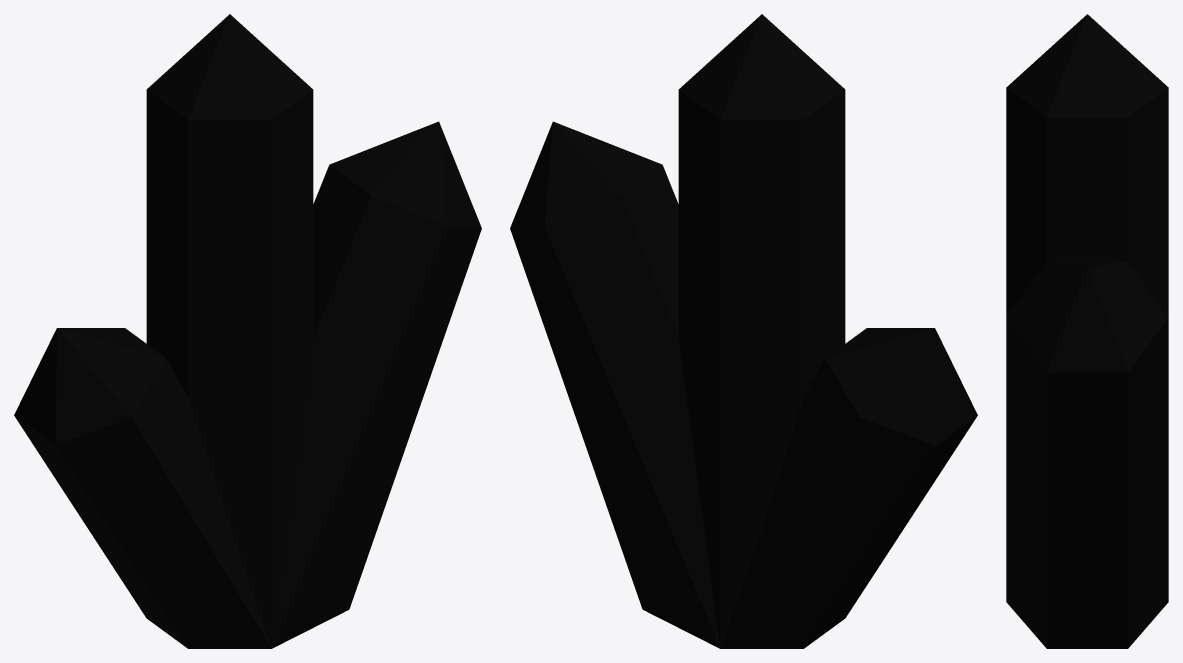
File: black_cave_crystal.obj
3 renders of one model, left to right at view 1: azimuth 30°, elevation 25°; view 2: azimuth 150°, elevation 25°; view 3: azimuth 270°, elevation 25°, orthographic. The views are drawn at different scales.
Visible parts, largest first — view 1: main; view 2: main; view 3: main.
Boxes of the visible parts, box(x1,y1,x2,y2) form: main: box(14, 14, 481, 648); main: box(510, 14, 977, 648); main: box(1006, 14, 1168, 648).
Bounding box in the file's own units: 0.7381 × 1 × 0.25.
